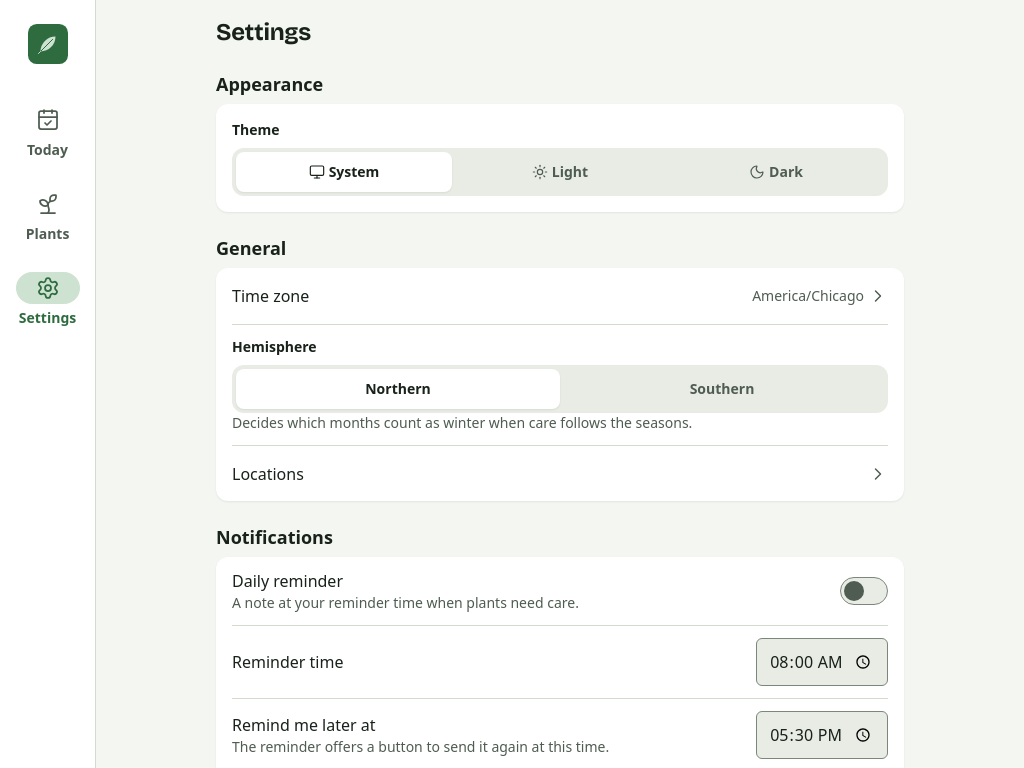
Test: Notifications settings › stays off when permission is refused
Click the switch labelled "Daily reminder". click: (864, 591)
box: x1=840 y1=577 x2=888 y2=605
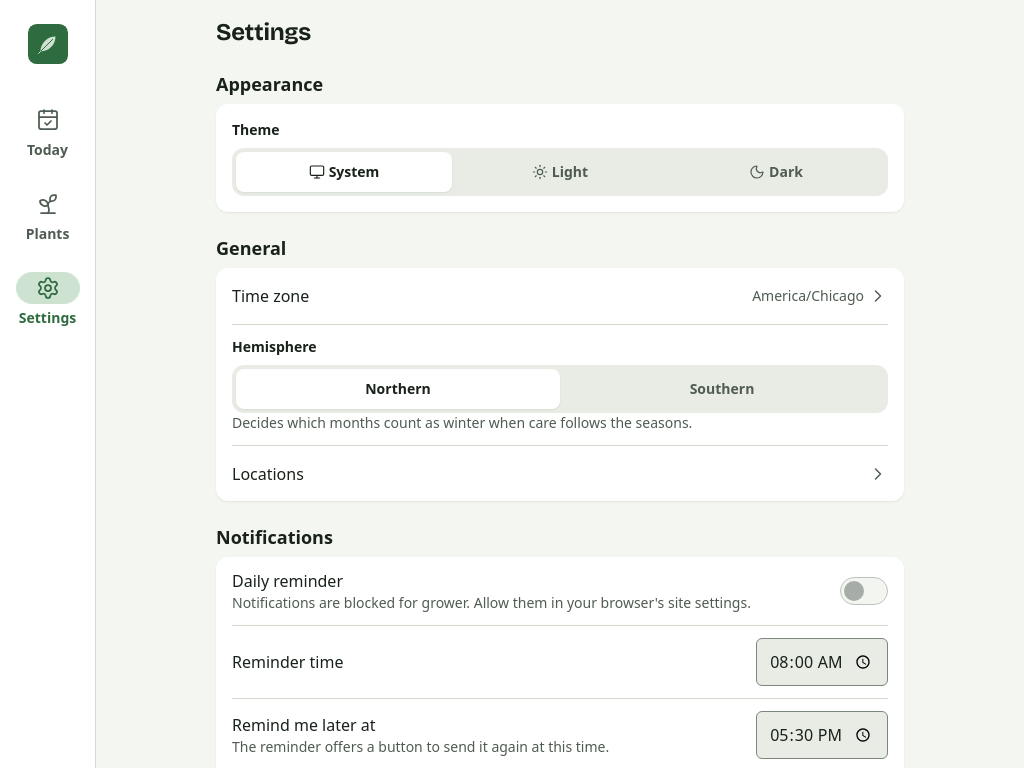
Check: the text "Notifications are blocked for grower. Allow them in your browser's site settings." is shown, box x1=232 y1=593 x2=751 y2=612
